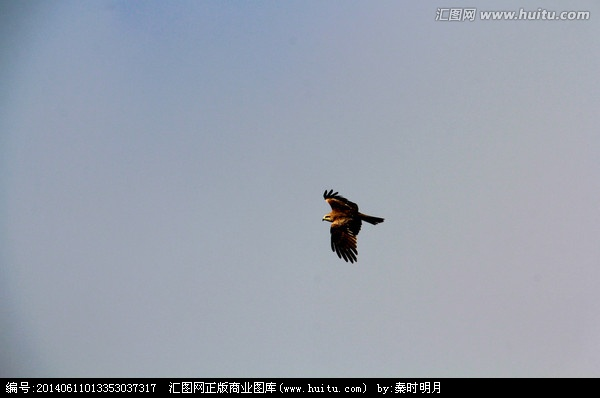bird: (316, 186, 386, 264)
